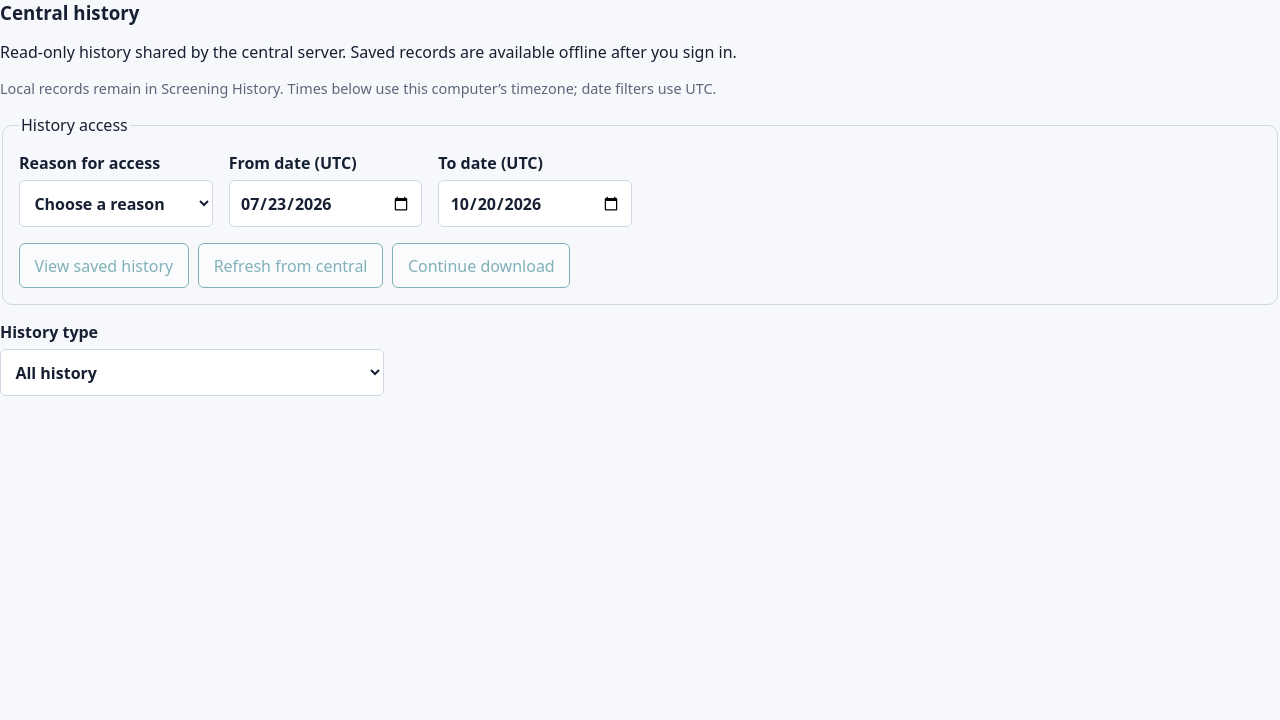
Test case: central history desktop panel › keeps saved history visible when offline but clears it when access is denied
The width and height of the screenshot is (1280, 720).
Step 1. Select "Care delivery" in the dropdown labelled "Reason for access" → (116, 204), box [19,180,213,227]
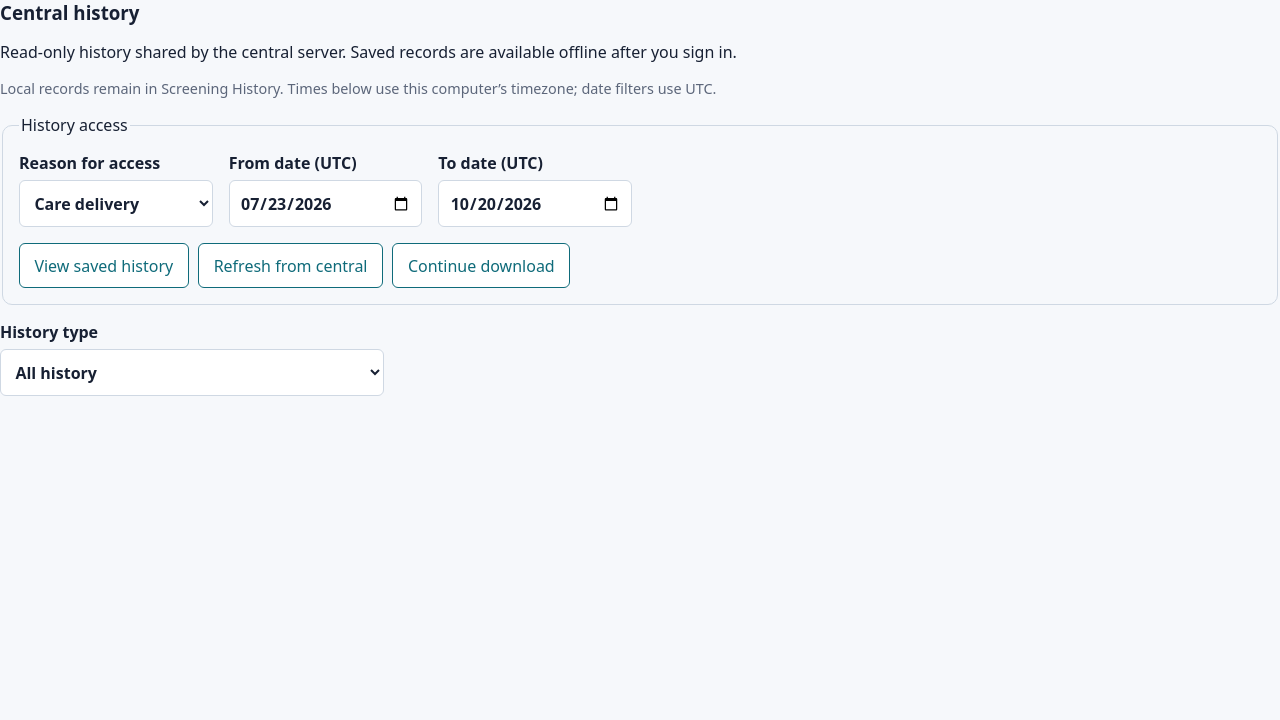
Step 2. Click the button "View saved history" → (104, 266), box [19,243,189,288]
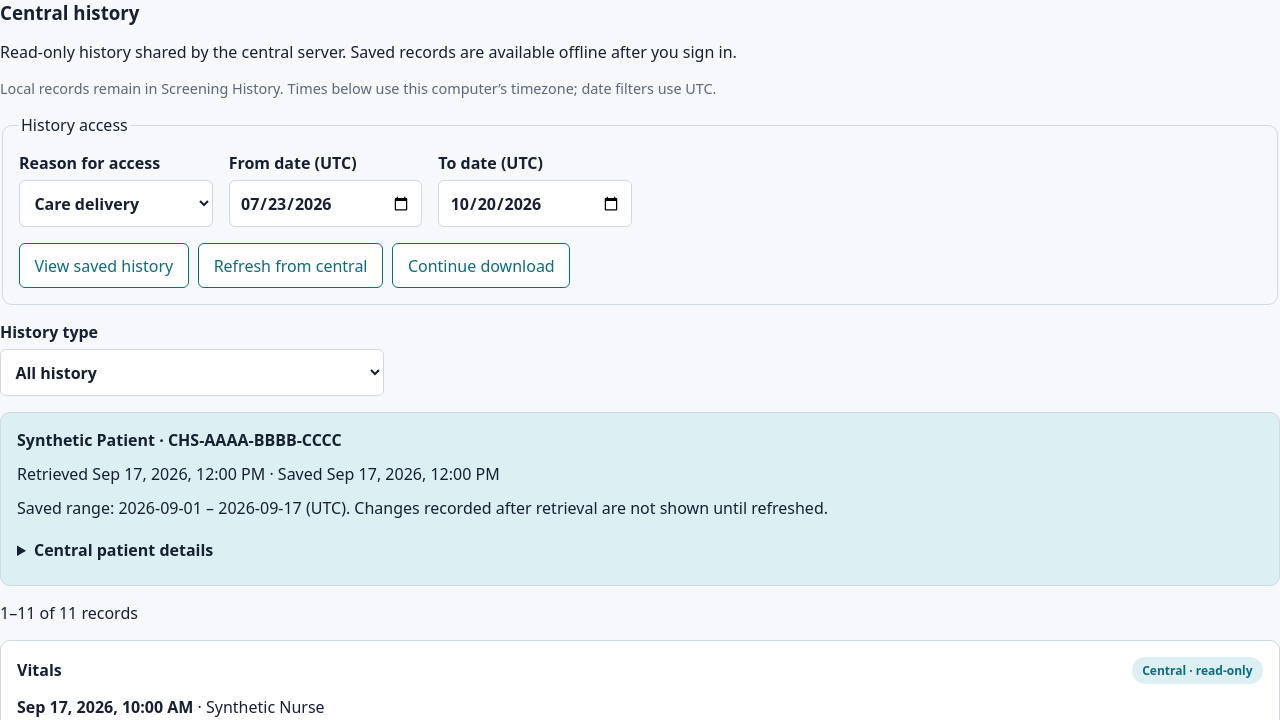
Step 3. Click the button "Refresh from central" → (291, 266), box [198,243,383,288]
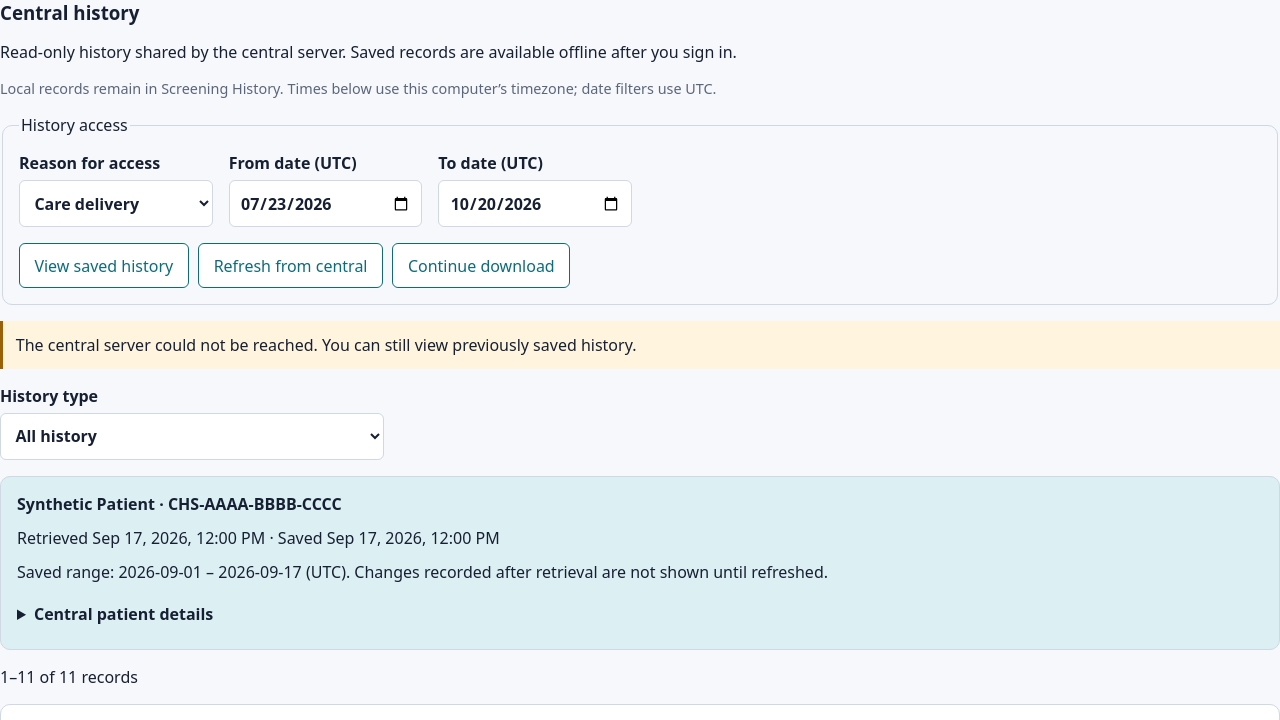
Expected: the number of elements with class "central-history-card" is 11
Expected: the text "could not be reached" is shown, [16,334,636,356]
Step 4. Click the button "Refresh from central" → (291, 266), box [198,243,383,288]
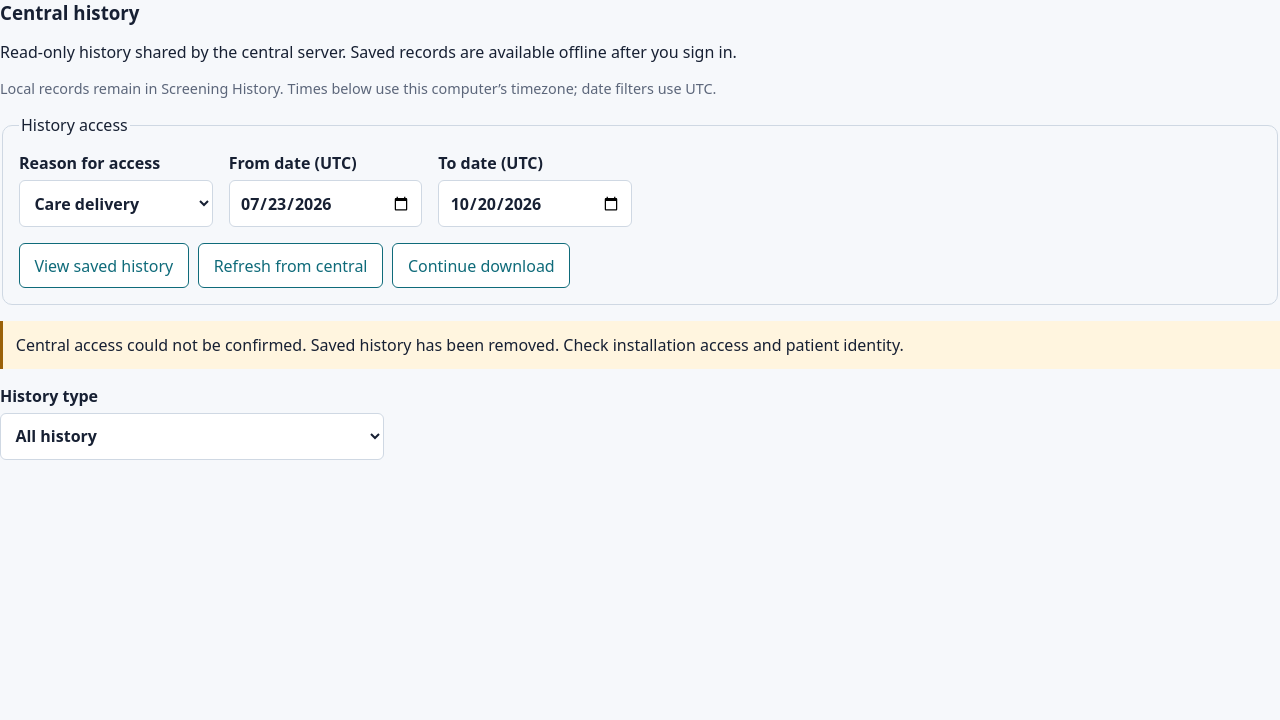
Expected: no elements with class "central-history-card" are shown
Expected: the text "Saved history has been removed" is shown, [16,334,904,356]
